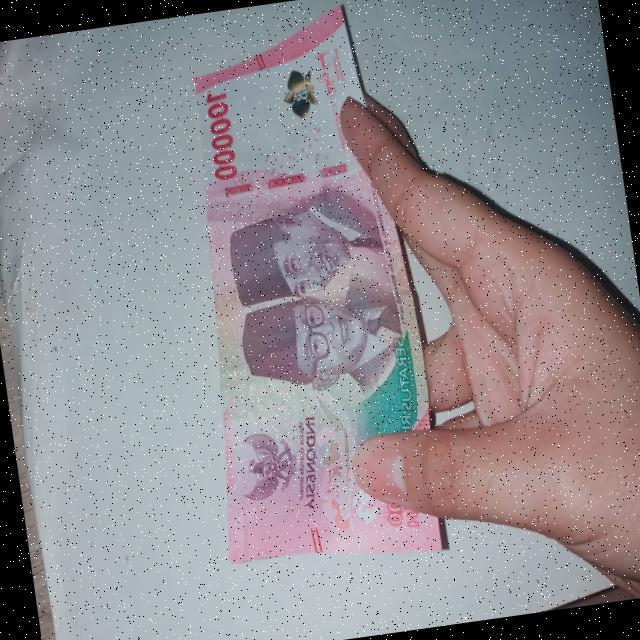100K: (153, 0, 453, 578)
